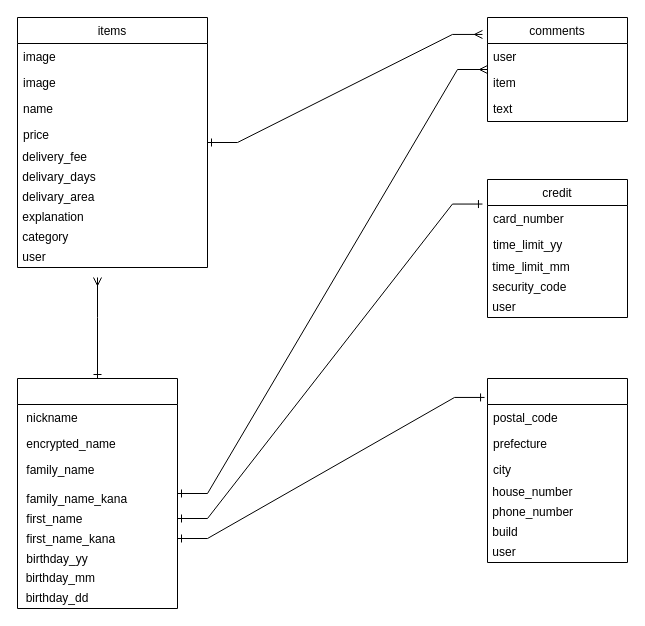
The diagram is 645 pixels wide and 626 high, and some of its shapes have lost their labels. Each missing label, with the box of its shape:
address: (486, 378, 628, 562)
users: (16, 378, 178, 608)
